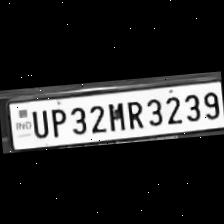2: (86, 99, 108, 134), (162, 92, 182, 124)
3: (66, 100, 88, 136), (142, 94, 164, 127), (180, 89, 201, 121)
9: (199, 86, 222, 120)
M: (105, 98, 126, 131)
P: (46, 104, 68, 138)
R: (122, 96, 144, 130)
U: (26, 105, 48, 138)
